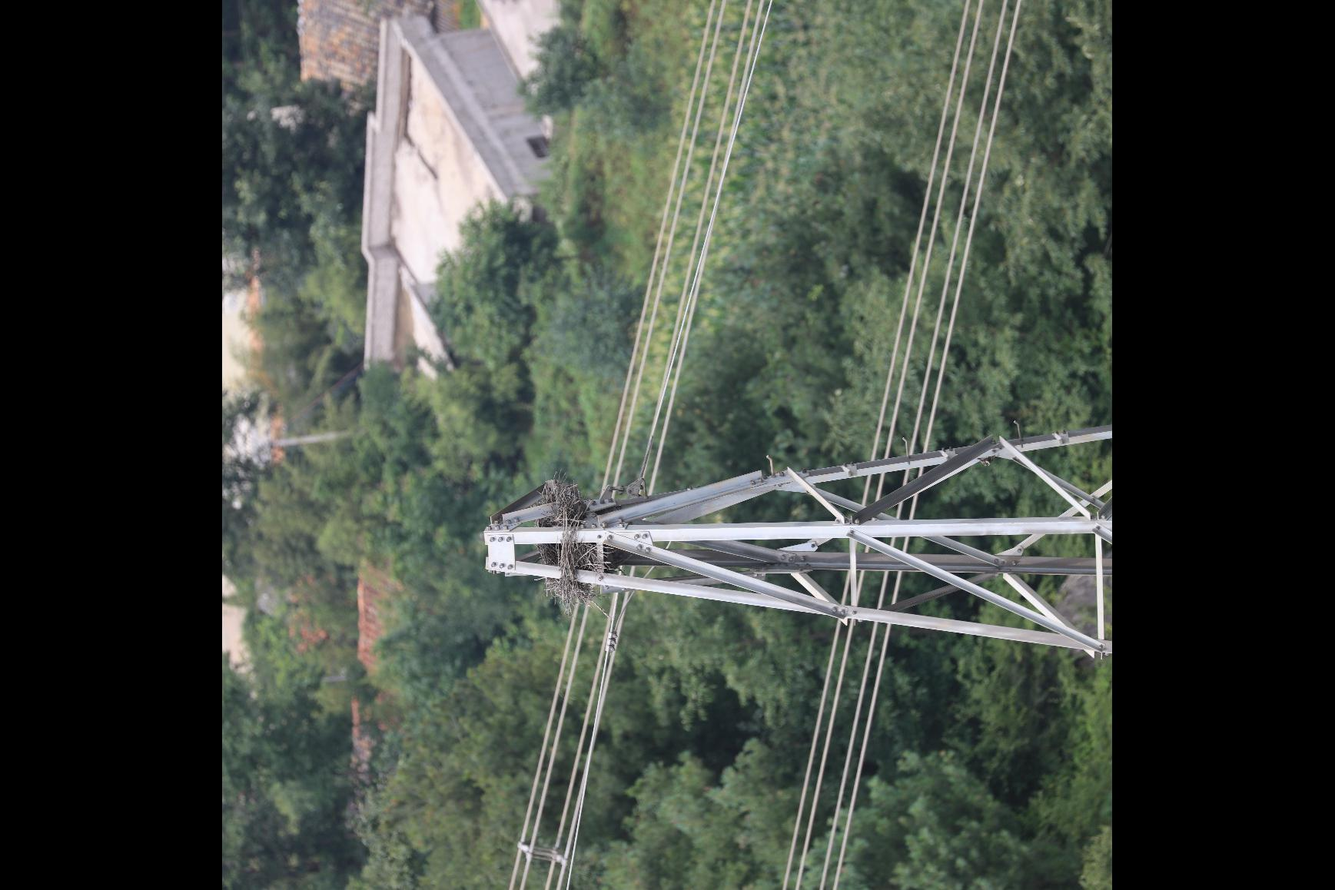nest: (531, 476, 602, 610)
